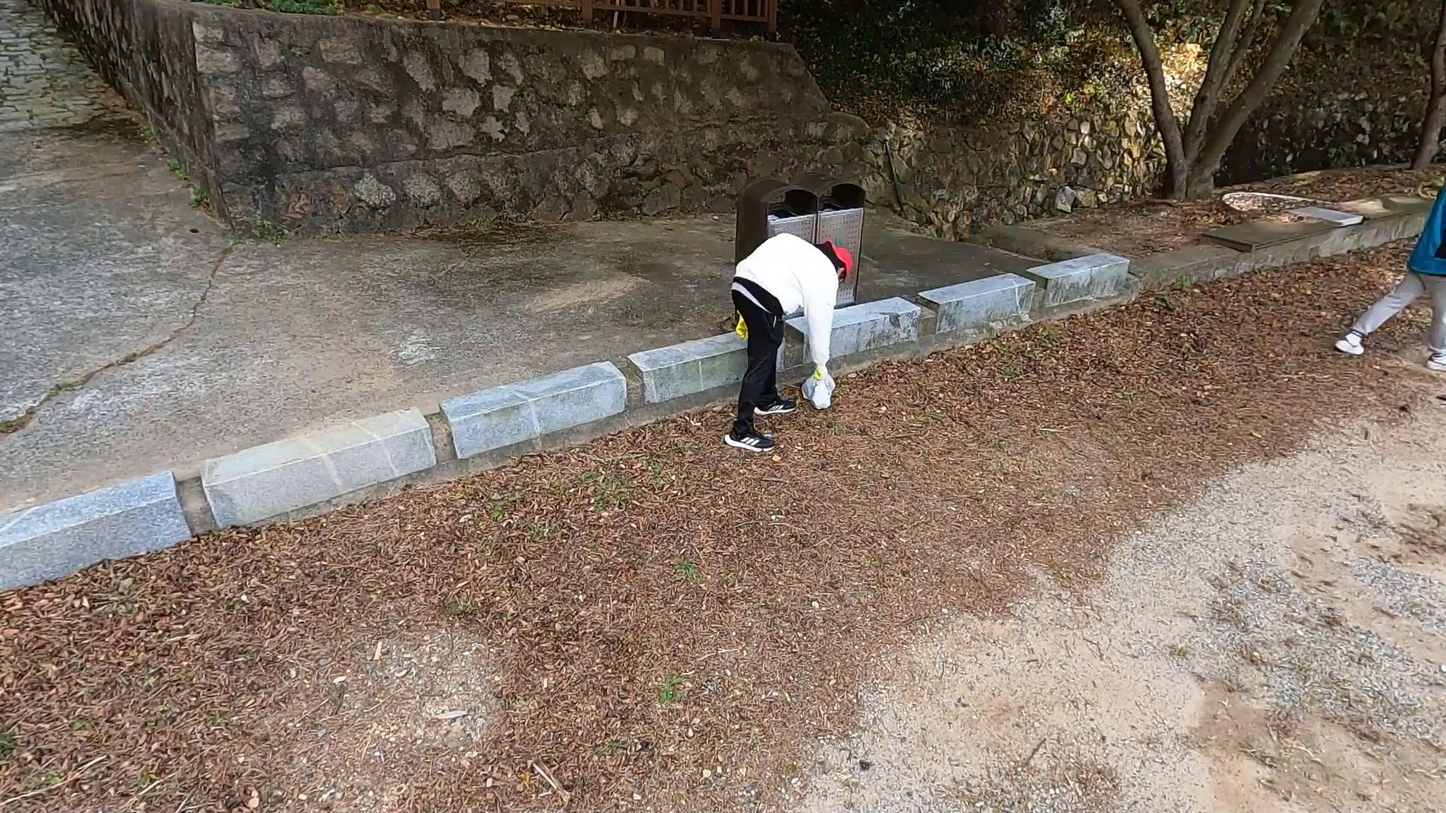person: (722, 234, 853, 454), (1334, 172, 1446, 371)
trash: (801, 370, 836, 402), (813, 381, 832, 409)
